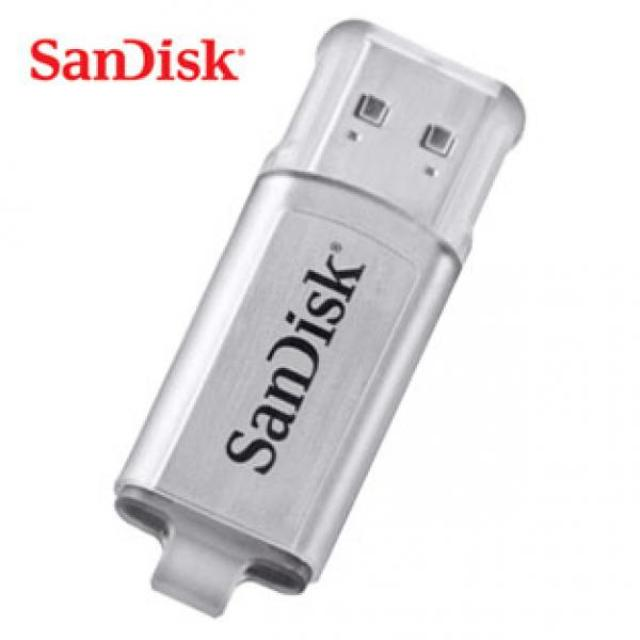USB-Flash-Drive: (100, 16, 530, 614)
